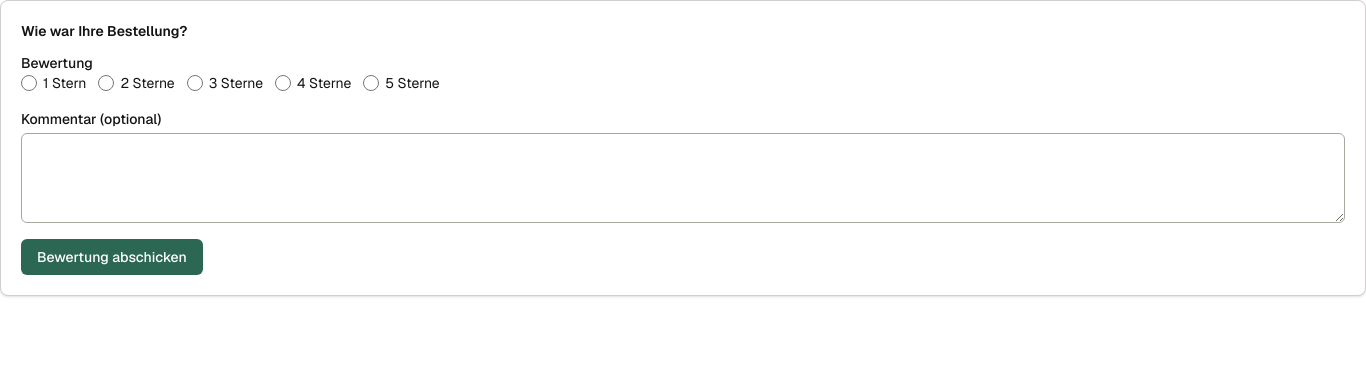
Test: RatingForm keeps input after an error › keeps the selected stars and the comment
Click the radio button labelled "4 Sterne" at (283, 83), box [275,75,291,91]
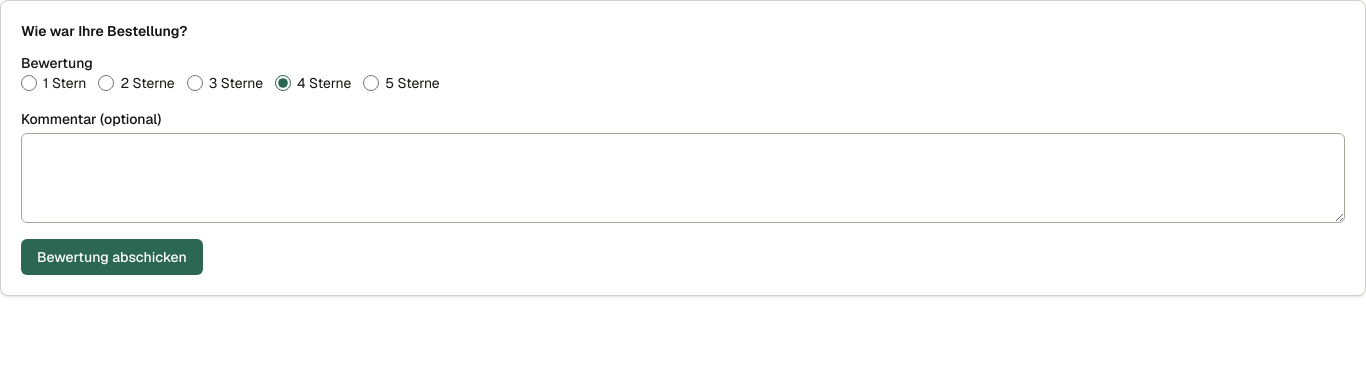
Type "Sehr lecker" into the text box labelled "Kommentar (optional)" at (683, 178), box [21,133,1345,223]
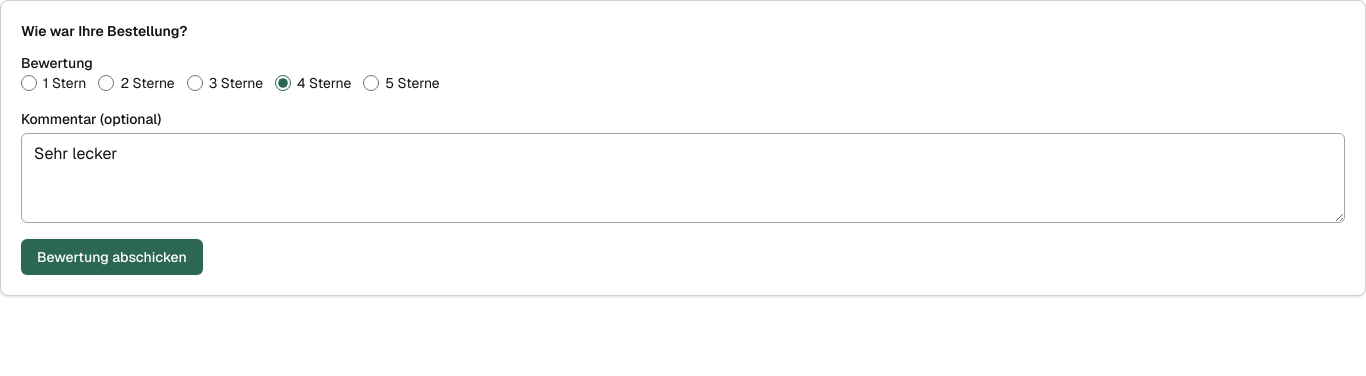
Click the button "Bewertung abschicken" at (112, 257), box [21,239,203,275]
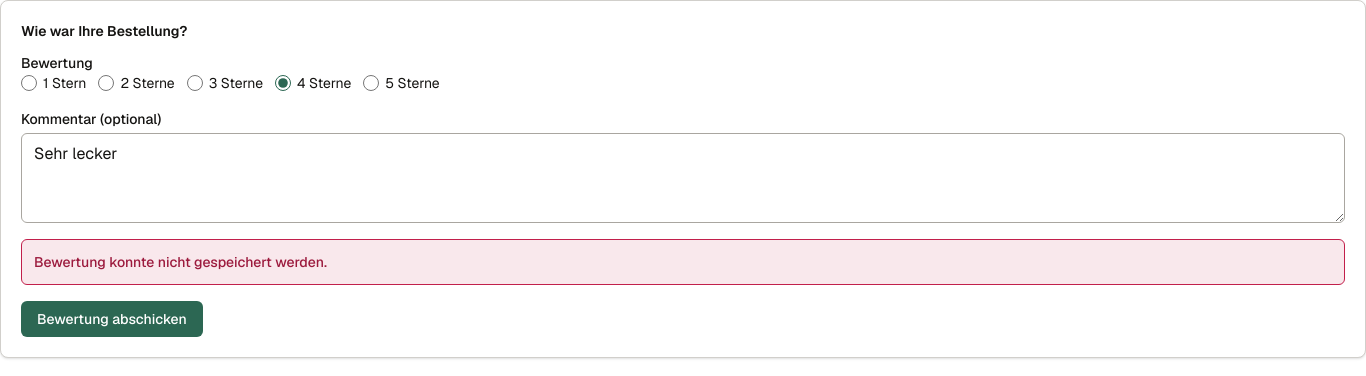
Check: the radio button labelled "4 Sterne" is checked, box [275,75,291,91]
Check: the message shows "nicht gespeichert", box [34,253,327,271]
